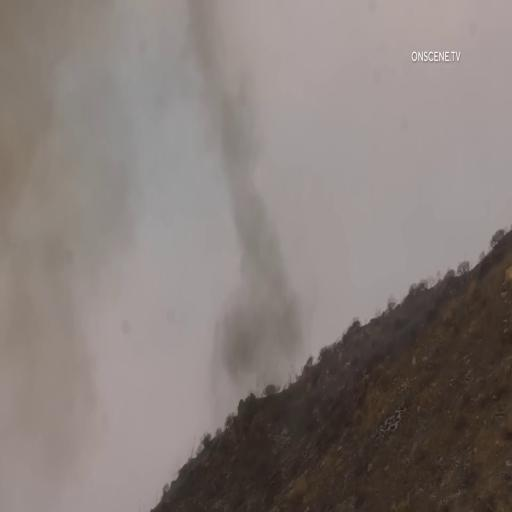smoke: (226, 275, 288, 370)
